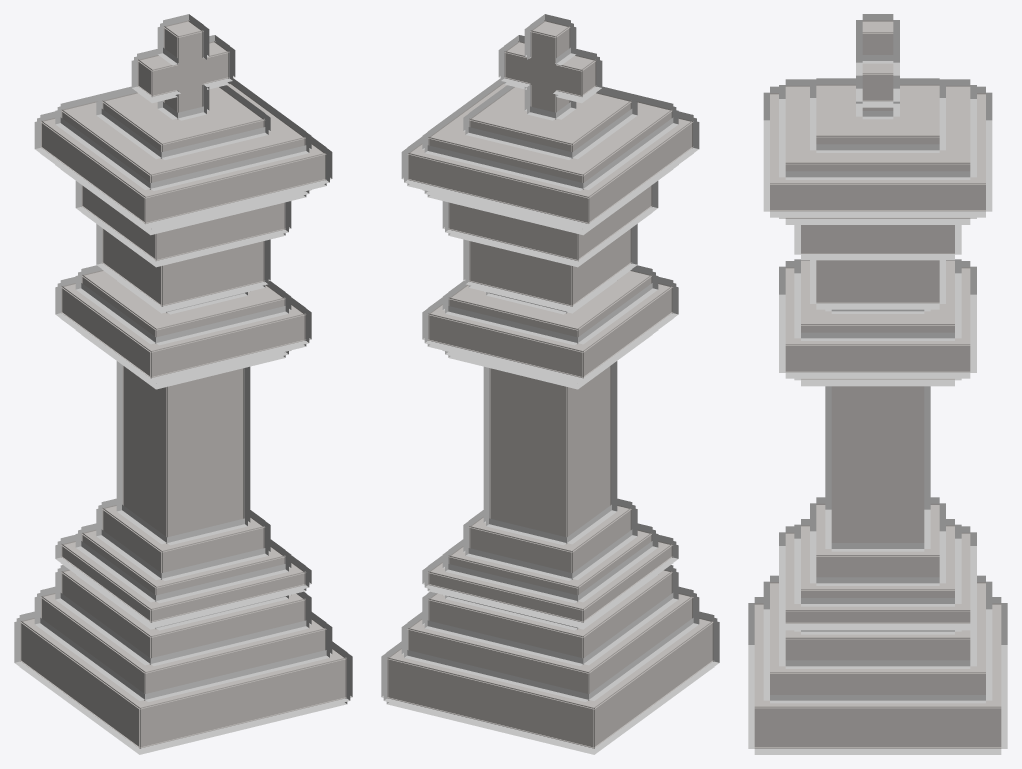
Rendered from white-king.glb.
3 renders of one model, left to right at view 1: azimuth 30°, elevation 25°; view 2: azimuth 150°, elevation 25°; view 3: azimuth 270°, elevation 25°, orthographic. The views are drawn at different scales.
Visible parts, largest first — view 1: chess-king-white_model; view 2: chess-king-white_model; view 3: chess-king-white_model.
Boxes of the visible parts, left/top/right/bottom form: chess-king-white_model: left=14, top=14, right=352, bottom=754; chess-king-white_model: left=381, top=14, right=719, bottom=754; chess-king-white_model: left=748, top=14, right=1007, bottom=754.
Bounding box in the file's own units: 1.68 × 4.88 × 1.68.
2 materials, 1 textured.
